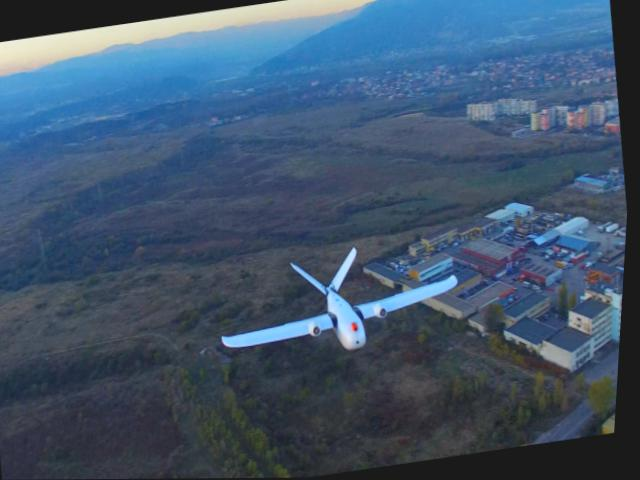plane: (213, 232, 471, 369)
